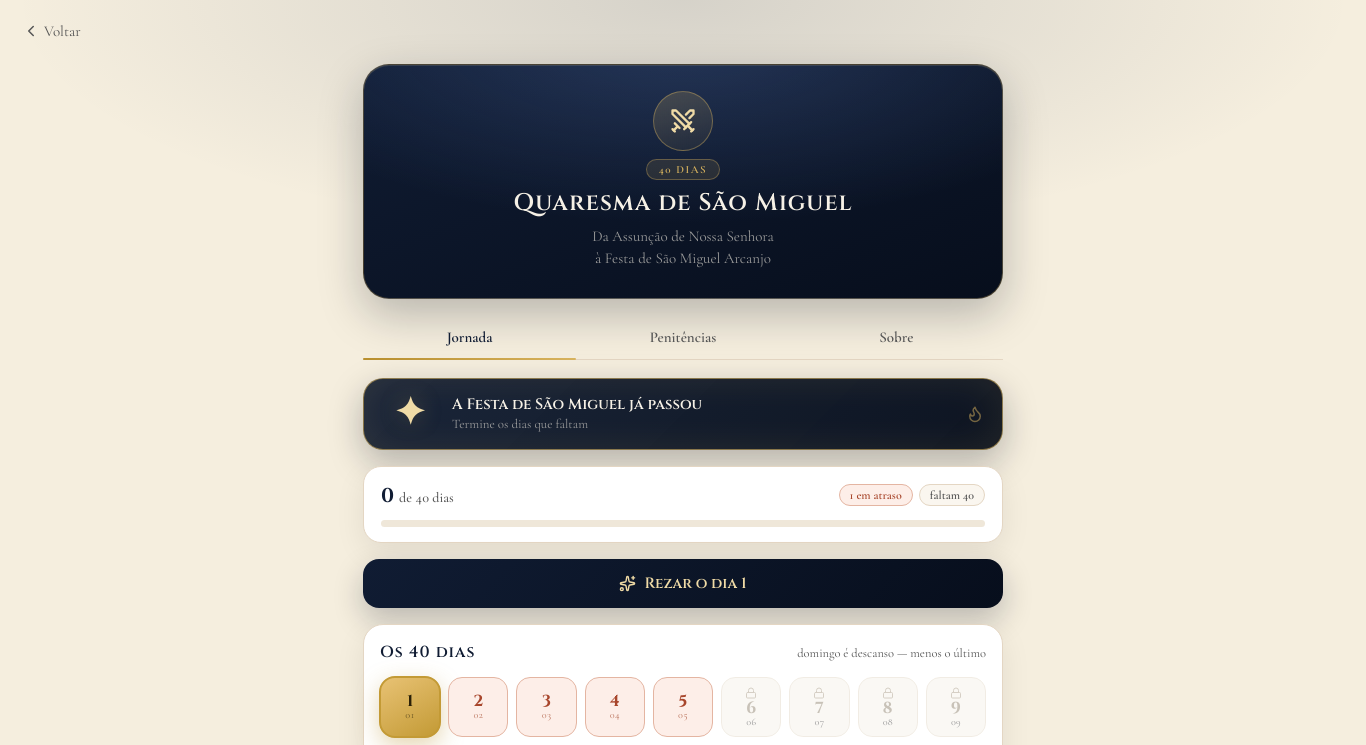
Test case: Quaresma › shows the motto on the Sobre tab
The width and height of the screenshot is (1366, 745).
Click the tab "Sobre".
click(896, 338)  # box left=790, top=316, right=1003, bottom=358
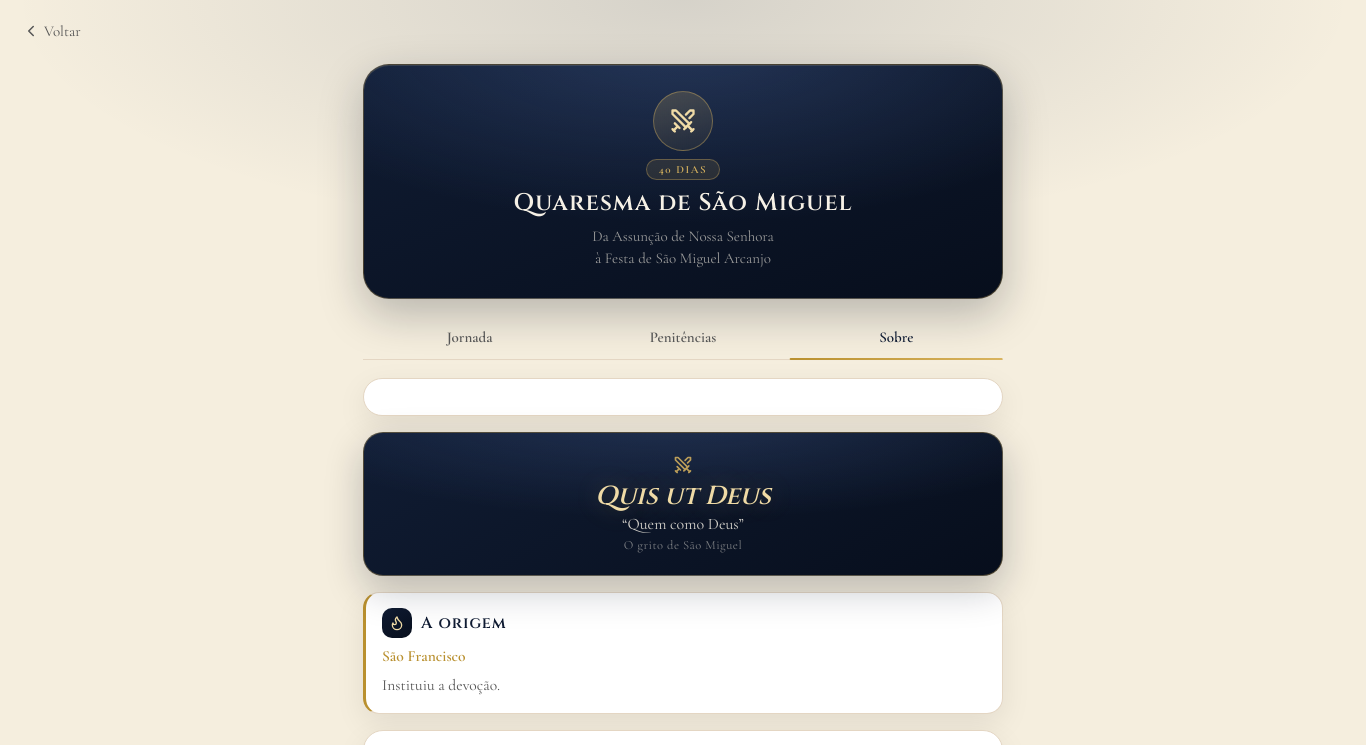
Expected: the text "Quis ut Deus" is shown, left=595, top=482, right=771, bottom=511
